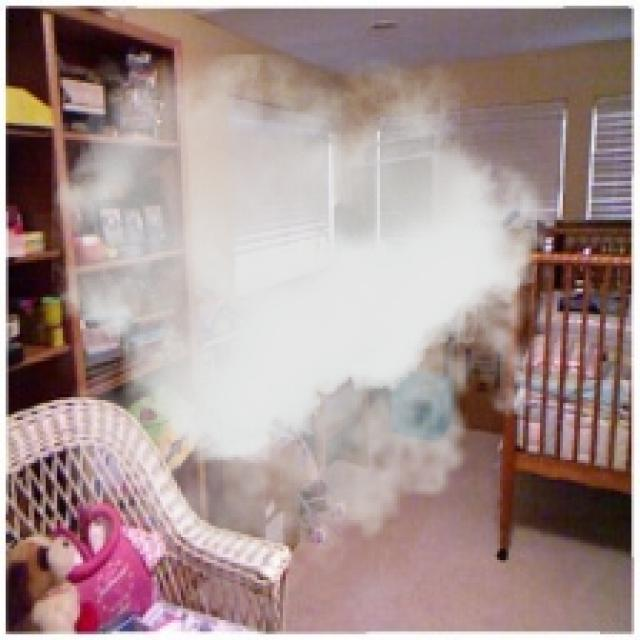smoke: (51, 54, 568, 606)
